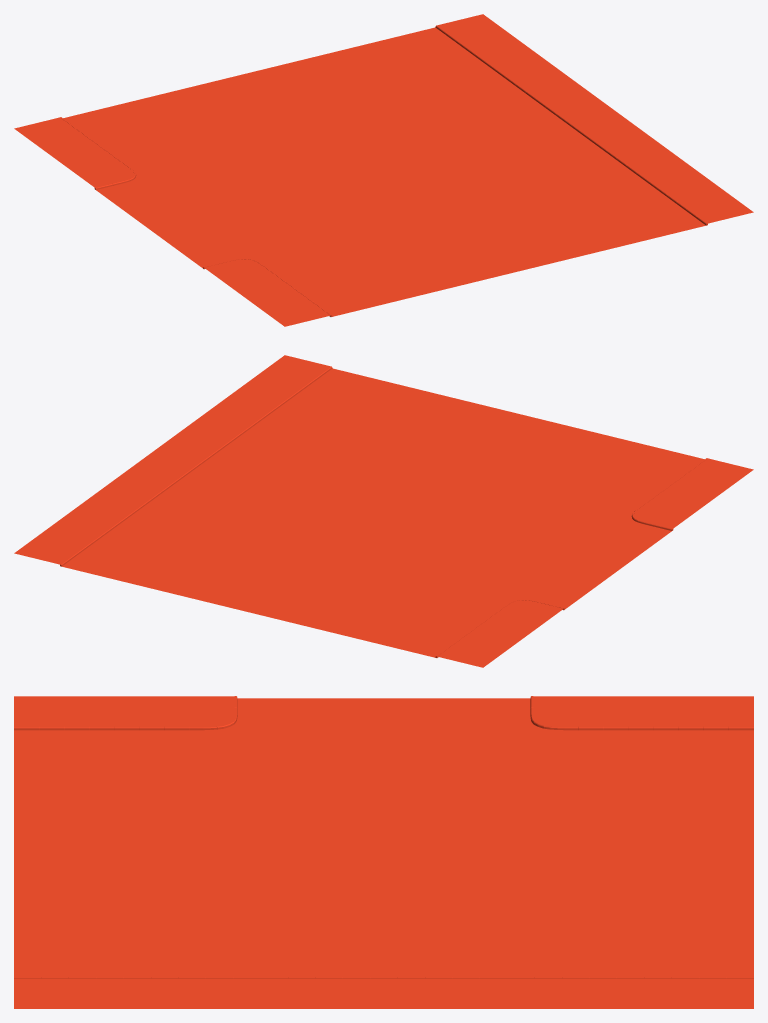
The model's file is SM_FreewayToMainroad_Exit_30x30_City.fbx.
3 views of the same model, one above another, from view 1: azimuth 30°, elevation 25°; view 2: azimuth 150°, elevation 25°; view 3: azimuth 270°, elevation 25° (orthographic). The views are drawn at different scales.
Visible parts, largest first — view 1: SM_FreewayToMainroad_Exit_30x30_City; view 2: SM_FreewayToMainroad_Exit_30x30_City; view 3: SM_FreewayToMainroad_Exit_30x30_City.
Boxes of the visible parts, <box> form: SM_FreewayToMainroad_Exit_30x30_City: <box>14,14,753,326</box>; SM_FreewayToMainroad_Exit_30x30_City: <box>14,355,753,667</box>; SM_FreewayToMainroad_Exit_30x30_City: <box>14,696,753,1008</box>.
Bounding box in the file's own units: 30 × 0.1084 × 30.
